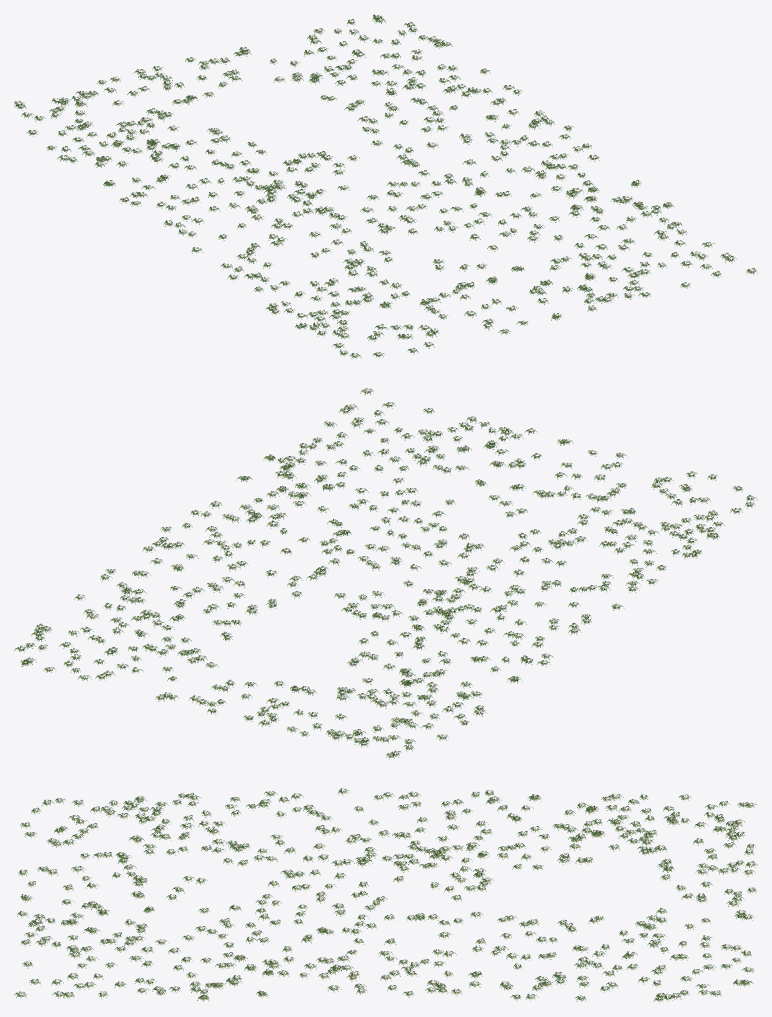
The model's file is grove_understory.glb.
The picture shows the model from 3 angles, top to bottom: view 1: azimuth 30°, elevation 25°; view 2: azimuth 150°, elevation 25°; view 3: azimuth 270°, elevation 25°; orthographic projection. The views are drawn at different scales.
Parts seen in each view (by area): view 1: grove_understory1, grove_understory3, grove_understory0, grove_understory2, grove_understory4; view 2: grove_understory1, grove_understory3, grove_understory2, grove_understory0, grove_understory4; view 3: grove_understory1, grove_understory3, grove_understory0, grove_understory2, grove_understory4.
Part boxes in pixels (bbox=[...]): grove_understory1: bbox=[51, 14, 669, 357]; grove_understory3: bbox=[21, 15, 732, 359]; grove_understory0: bbox=[55, 38, 690, 336]; grove_understory2: bbox=[51, 27, 757, 356]; grove_understory4: bbox=[14, 17, 712, 354]; grove_understory1: bbox=[20, 425, 742, 747]; grove_understory3: bbox=[14, 408, 757, 751]; grove_understory2: bbox=[26, 388, 754, 740]; grove_understory0: bbox=[36, 408, 715, 744]; grove_understory4: bbox=[25, 410, 717, 759]; grove_understory1: bbox=[17, 791, 753, 1001]; grove_understory3: bbox=[37, 788, 750, 1001]; grove_understory0: bbox=[22, 793, 755, 1002]; grove_understory2: bbox=[14, 793, 753, 1001]; grove_understory4: bbox=[20, 792, 757, 1000].
Size of the model in its own units: 49.23 by 0.9125 by 74.14.
1 material, 1 textured.
